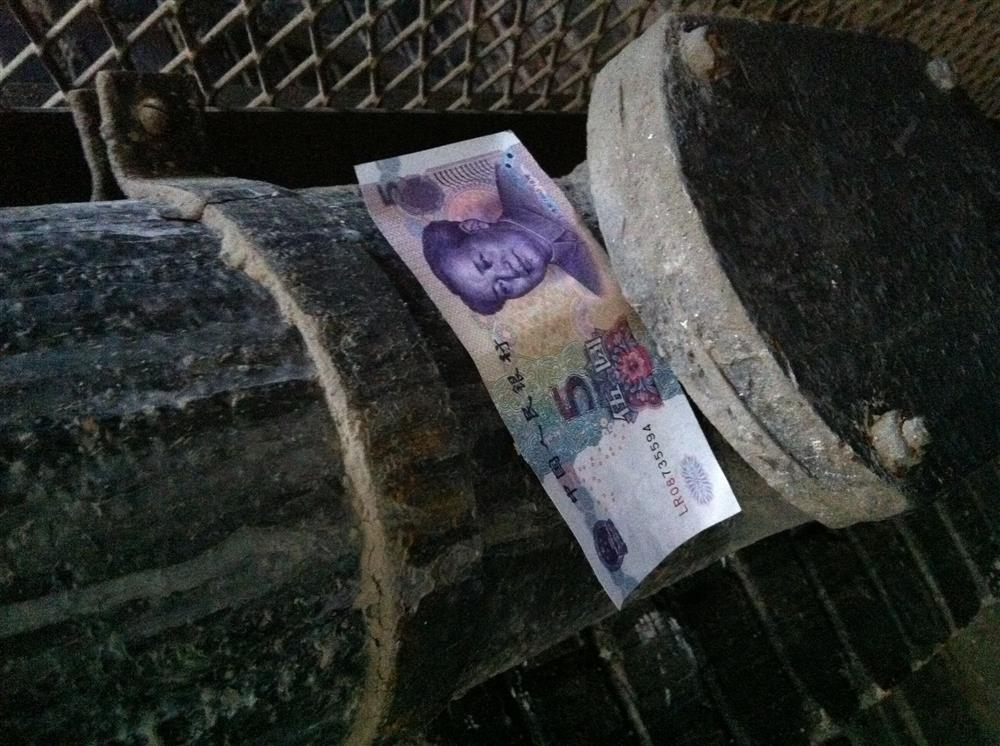5yuan: (352, 131, 743, 612)
